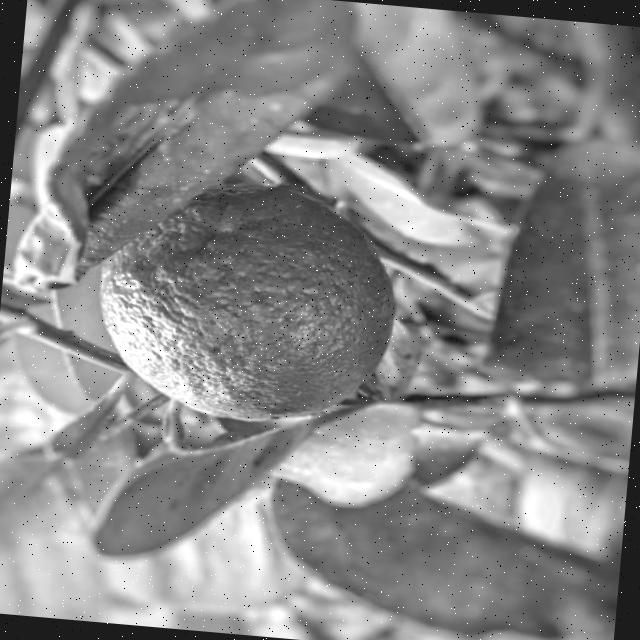Unripe: (86, 171, 403, 434)
